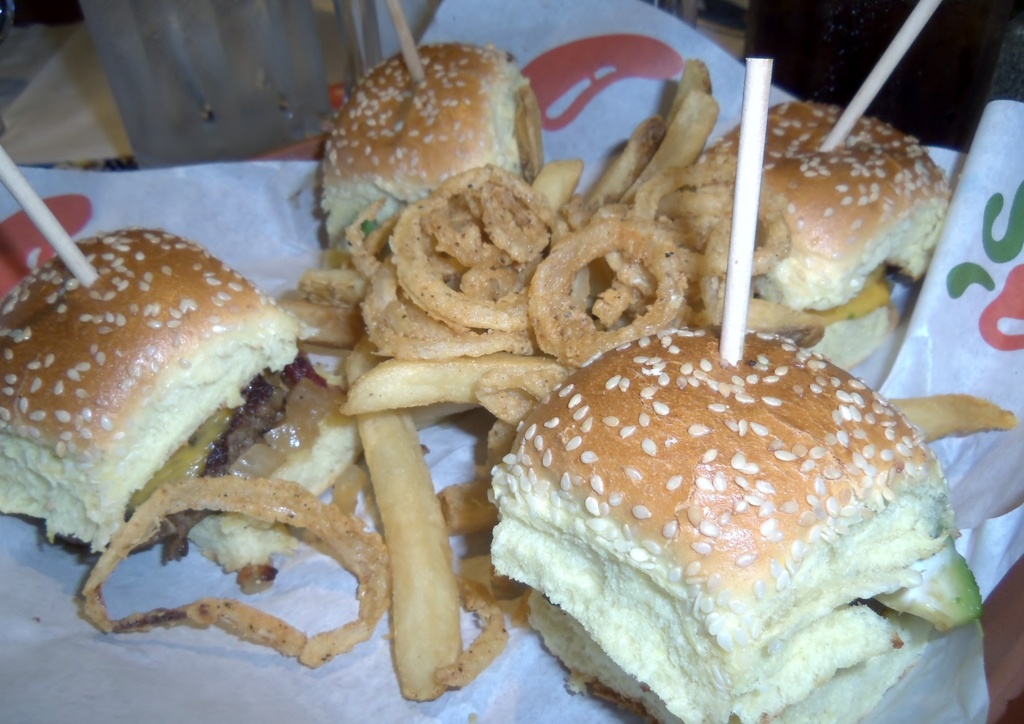Hamburger: (491, 321, 987, 723), (0, 222, 373, 573), (701, 87, 951, 363), (300, 35, 533, 247)
